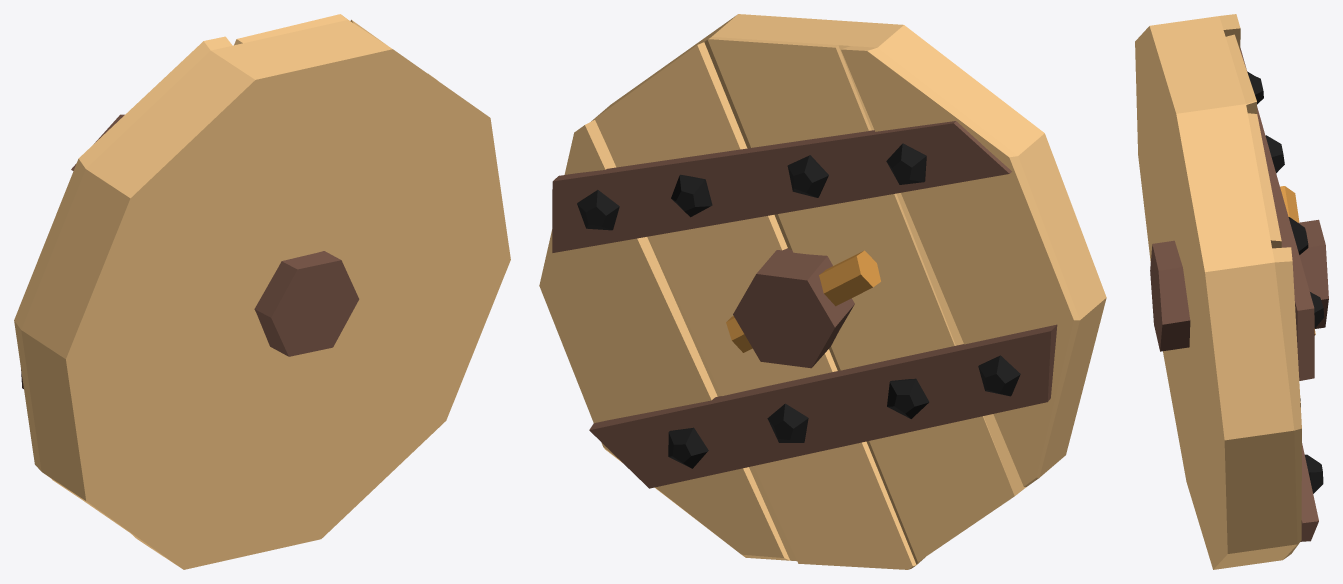
Rendered from wagon-wheel-game-asset.glb.
3 views of the same model, side by side, from view 1: azimuth 30°, elevation 25°; view 2: azimuth 150°, elevation 25°; view 3: azimuth 270°, elevation 25° (orthographic). The views are drawn at different scales.
Parts seen in each view (by area): view 1: group1977136142; view 2: group1977136142; view 3: group1977136142.
Boxes of the visible parts, bbox=[...] form: group1977136142: bbox=[14, 14, 510, 569]; group1977136142: bbox=[539, 14, 1106, 569]; group1977136142: bbox=[1135, 14, 1328, 569].
Size of the model in its own units: 0.4442 by 0.4386 by 0.1526.
